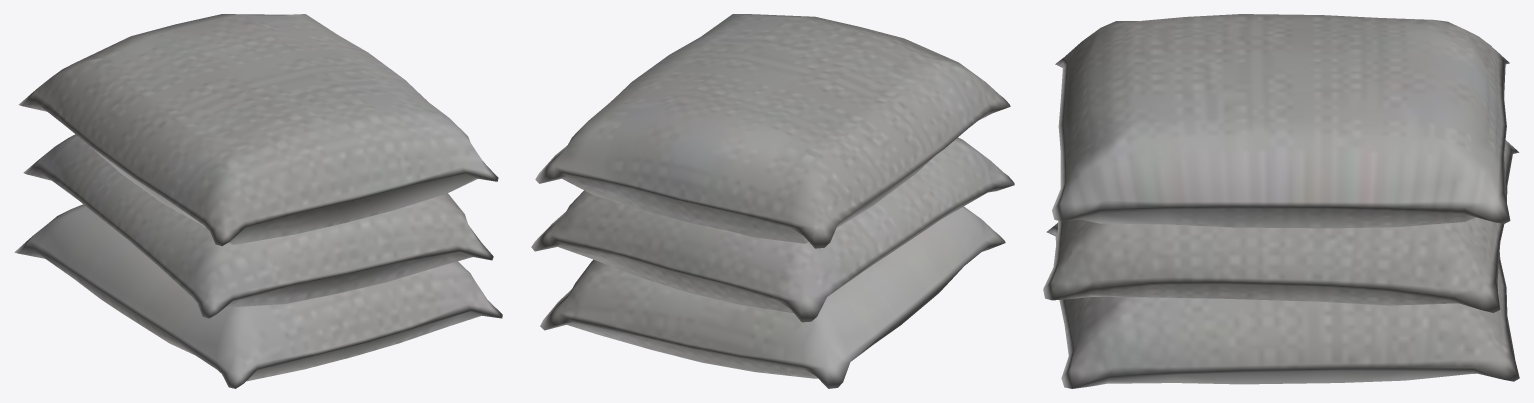
3 renders of one model, left to right at view 1: azimuth 30°, elevation 25°; view 2: azimuth 150°, elevation 25°; view 3: azimuth 270°, elevation 25°, orthographic. The views are drawn at different scales.
Size of the model in its own units: 7.92 by 5.54 by 9.22.
Materials: 1 (1 with a texture image).
